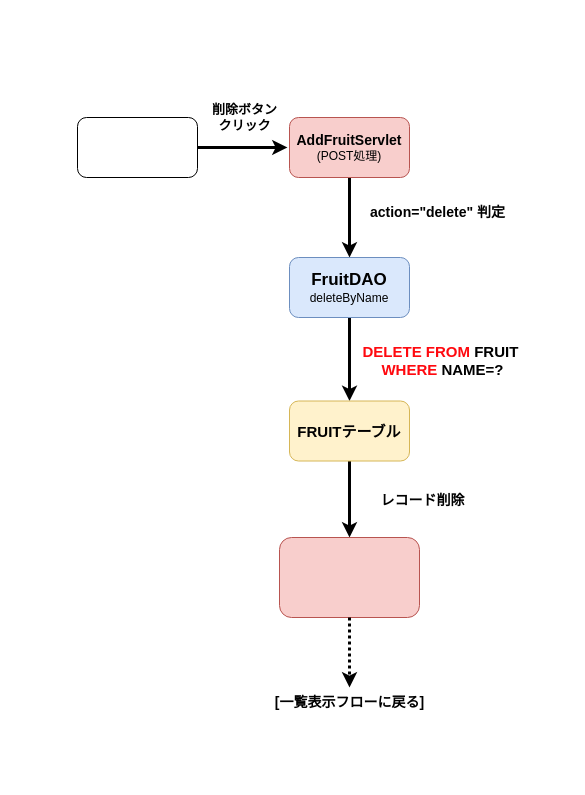
The diagram is 585 pixels wide and 795 high, and some of its shapes have lost their labels. Each missing label, with the box of its shape:
AddFruitServlet FruitServletへ リダイレクト: (278, 536, 420, 618)
ユーザー: (76, 116, 198, 178)
